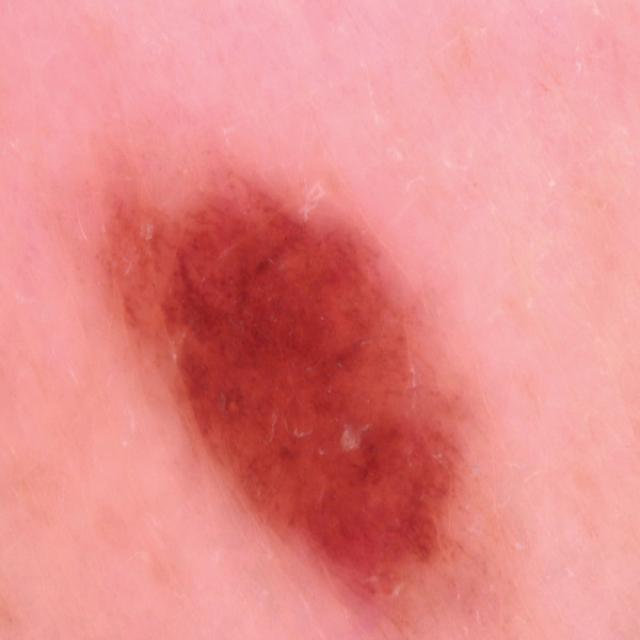NV: (70, 137, 522, 639)
